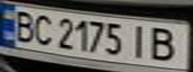1: (69, 17, 90, 52)
2: (54, 15, 75, 51)
5: (103, 20, 127, 56)
7: (84, 18, 106, 54)
B: (145, 25, 187, 63), (9, 8, 39, 43)
C: (30, 12, 57, 47)
I: (124, 22, 154, 60)
